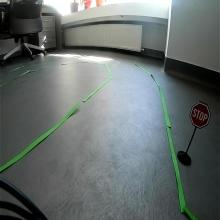stop: (190, 100, 212, 130)
